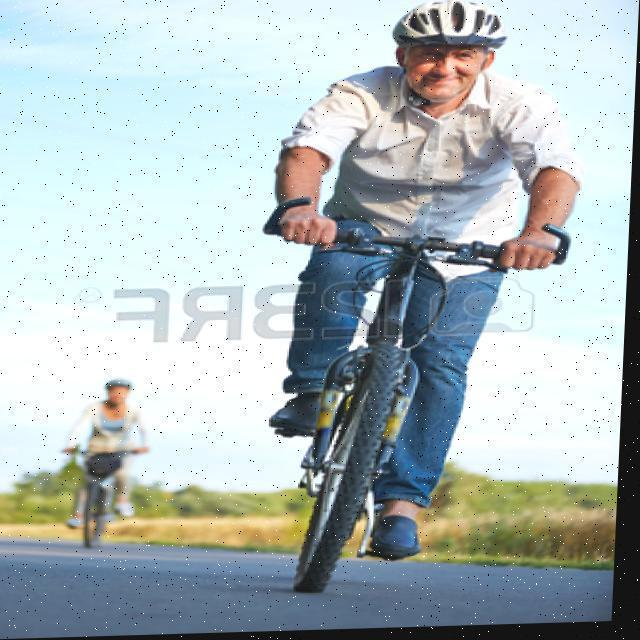Helmet: (387, 0, 514, 106), (98, 375, 137, 411)
